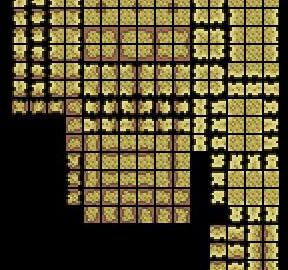sand: (10, 8, 28, 26), (10, 98, 28, 116), (10, 80, 28, 98), (10, 62, 28, 80), (28, 98, 46, 116), (28, 80, 46, 98), (28, 8, 46, 26), (28, 62, 46, 80), (46, 98, 64, 116), (46, 80, 64, 98), (46, 62, 64, 80), (46, 8, 64, 26), (64, 26, 82, 44), (64, 62, 82, 80), (64, 80, 82, 98), (64, 116, 82, 134), (64, 134, 82, 152), (64, 170, 82, 188), (64, 188, 82, 206), (82, 8, 100, 26), (100, 8, 118, 26), (118, 8, 136, 26), (118, 26, 136, 44), (100, 62, 118, 80), (118, 62, 136, 80), (82, 62, 100, 80), (82, 80, 100, 98), (100, 80, 118, 98), (118, 80, 136, 98), (82, 98, 100, 116), (100, 98, 118, 116), (118, 98, 136, 116), (118, 116, 136, 134), (82, 116, 100, 134), (82, 134, 100, 152), (100, 134, 118, 152), (118, 134, 136, 152), (118, 170, 136, 188), (82, 170, 100, 188), (82, 188, 100, 206), (100, 170, 118, 188), (100, 188, 118, 206), (118, 188, 136, 206), (154, 116, 172, 134), (190, 134, 208, 152), (208, 80, 226, 98), (208, 170, 226, 188), (208, 188, 226, 206), (244, 188, 262, 206), (244, 170, 262, 188), (244, 134, 262, 152), (244, 116, 262, 134), (244, 98, 262, 116), (244, 80, 262, 98), (244, 8, 262, 26), (10, 27, 28, 44), (10, 45, 28, 62), (28, 26, 46, 43), (28, 45, 46, 62), (46, 45, 64, 62), (46, 26, 64, 43), (65, 8, 82, 26), (64, 45, 82, 62), (64, 99, 82, 116), (64, 153, 82, 170), (100, 26, 118, 43), (82, 26, 100, 43), (82, 45, 100, 62), (100, 45, 118, 62), (118, 45, 136, 62), (101, 116, 118, 134), (82, 153, 100, 170), (100, 153, 118, 170), (118, 153, 136, 170), (82, 206, 100, 223), (100, 206, 118, 223), (118, 206, 136, 223), (154, 188, 171, 206), (136, 188, 153, 206), (136, 170, 153, 188), (154, 170, 171, 188), (172, 134, 189, 152), (155, 134, 172, 152), (136, 134, 153, 152), (172, 116, 189, 134), (136, 116, 153, 134), (136, 98, 153, 116), (136, 80, 153, 98), (136, 62, 153, 80), (136, 8, 153, 26), (154, 8, 171, 26), (154, 26, 172, 43), (154, 45, 172, 62), (155, 62, 172, 80), (155, 80, 172, 98), (154, 98, 171, 116), (172, 98, 189, 116), (172, 80, 189, 98), (173, 62, 190, 80), (172, 8, 189, 26), (191, 8, 208, 26), (190, 62, 207, 80), (190, 80, 207, 98), (190, 98, 207, 116), (190, 116, 207, 134), (208, 8, 225, 26), (208, 62, 225, 80), (208, 98, 225, 116), (208, 116, 225, 134), (208, 134, 225, 152), (226, 8, 243, 26), (226, 26, 243, 44), (227, 62, 244, 80), (226, 134, 243, 152), (208, 224, 226, 241), (208, 242, 225, 260), (226, 242, 243, 260), (244, 224, 262, 241), (244, 207, 262, 224), (245, 152, 262, 170), (262, 242, 279, 260), (262, 116, 279, 134), (262, 98, 279, 116), (244, 44, 261, 62), (136, 206, 153, 223), (154, 206, 171, 223), (172, 206, 189, 223), (172, 188, 189, 205), (172, 153, 189, 170), (154, 153, 171, 170), (137, 152, 154, 169), (136, 45, 153, 62), (136, 26, 153, 43), (172, 45, 189, 62), (172, 26, 189, 43), (190, 27, 207, 44), (190, 45, 207, 62), (208, 45, 225, 62), (208, 153, 225, 170), (226, 45, 243, 62), (226, 81, 243, 98), (226, 117, 243, 134), (226, 153, 243, 170), (226, 171, 243, 188), (227, 189, 244, 206), (226, 225, 243, 242), (227, 206, 244, 223), (244, 243, 261, 260), (262, 224, 279, 241), (245, 62, 262, 79), (262, 45, 279, 62), (245, 26, 262, 43), (227, 98, 243, 116), (263, 134, 279, 152), (263, 62, 279, 80), (172, 171, 189, 187), (208, 27, 225, 43), (263, 206, 279, 223), (263, 189, 279, 206), (263, 170, 279, 187), (263, 153, 279, 170), (263, 26, 279, 43), (263, 9, 279, 26), (263, 81, 279, 97), (208, 260, 225, 270), (263, 260, 279, 270), (262, 0, 279, 9), (226, 261, 243, 270), (244, 261, 261, 270), (10, 0, 28, 8), (118, 0, 136, 8), (208, 0, 226, 8), (64, 0, 81, 8), (137, 0, 154, 8), (190, 0, 207, 8), (244, 0, 261, 8), (28, 0, 45, 7), (46, 0, 63, 7), (83, 0, 100, 7), (101, 0, 118, 7), (155, 0, 172, 7), (173, 0, 190, 7), (227, 0, 244, 7)
